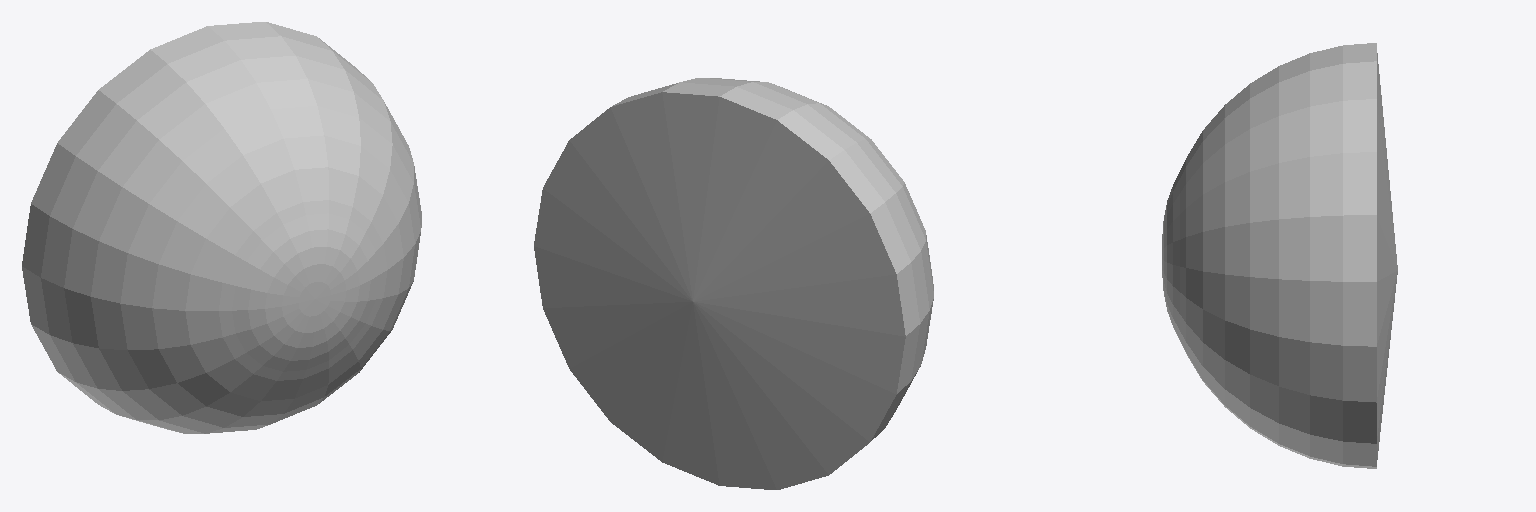
Rendered from eye_right_CBC.obj.
3 renders of one model, left to right at view 1: azimuth 30°, elevation 25°; view 2: azimuth 150°, elevation 25°; view 3: azimuth 270°, elevation 25°, orthographic.
Size of the model in its own units: 1.98 by 1.98 by 1.09.